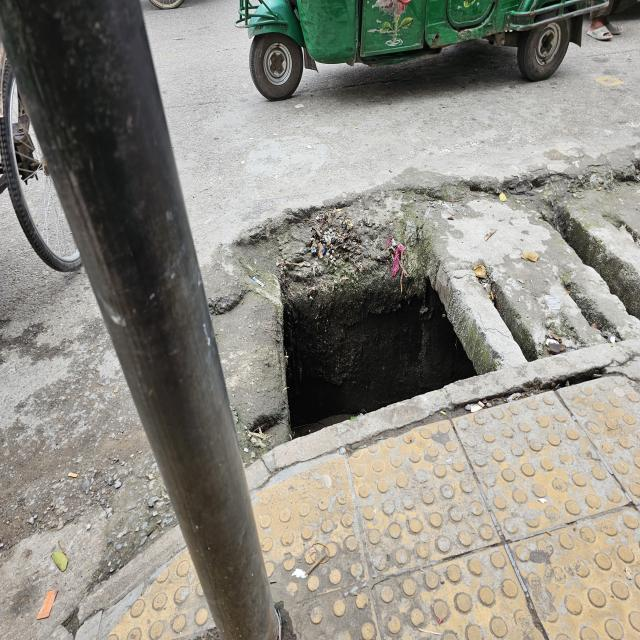drain_inlet: (265, 272, 482, 444)
